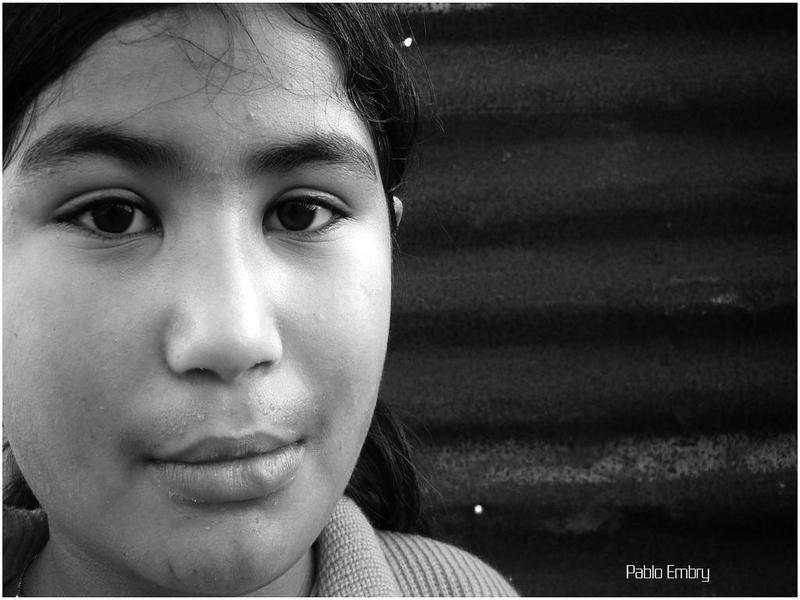person: (1, 1, 521, 599)
